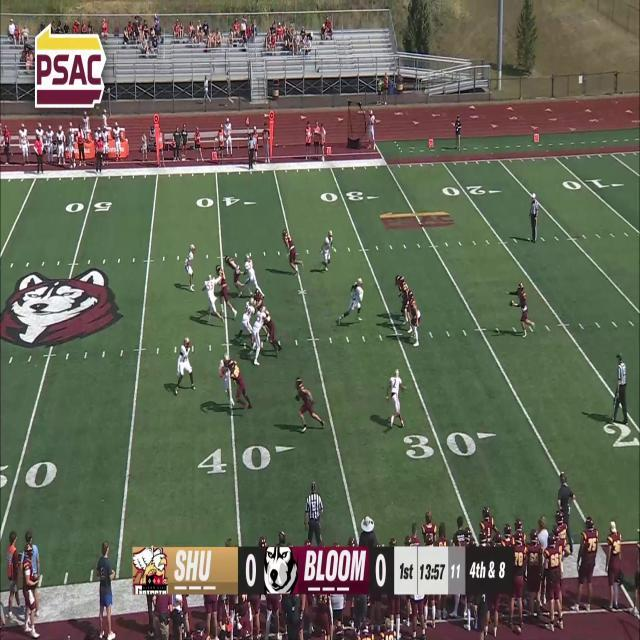football: (508, 298, 514, 308)
